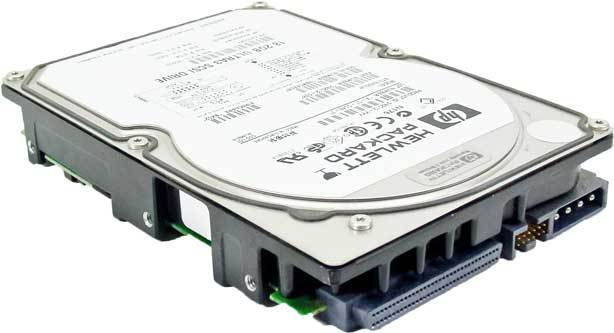SCSI Hard Drive: (2, 1, 614, 332)
